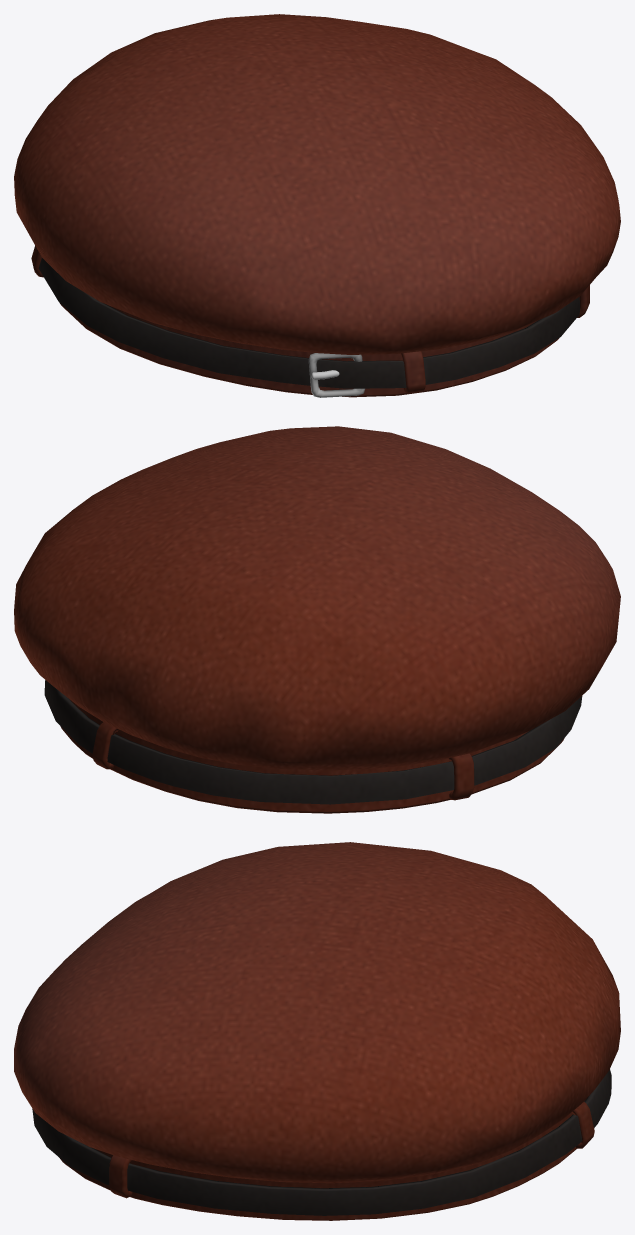
Rendered from ChristmasRoom_Beret.fbx.
The picture shows the model from 3 angles, top to bottom: view 1: azimuth 30°, elevation 25°; view 2: azimuth 150°, elevation 25°; view 3: azimuth 270°, elevation 25°; orthographic projection. The views are drawn at different scales.
Visible parts, largest first — view 1: ChristmasRoom_Beret; view 2: ChristmasRoom_Beret; view 3: ChristmasRoom_Beret.
Part boxes in pixels (x1,y1,x2,y2): ChristmasRoom_Beret: [14, 14, 620, 397]; ChristmasRoom_Beret: [14, 426, 620, 813]; ChristmasRoom_Beret: [14, 842, 620, 1220].
Bounding box in the file's own units: 24.04 × 9.97 × 24.77.
